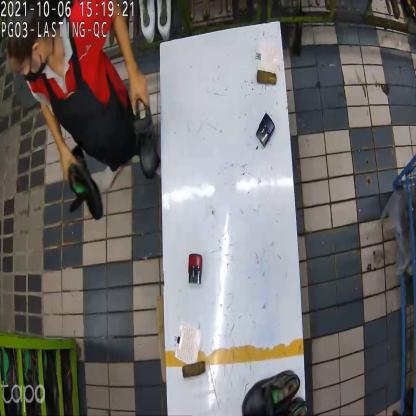shoes: (67, 88, 159, 218), (237, 364, 307, 416)
stamp: (256, 112, 275, 149), (185, 252, 204, 286)
